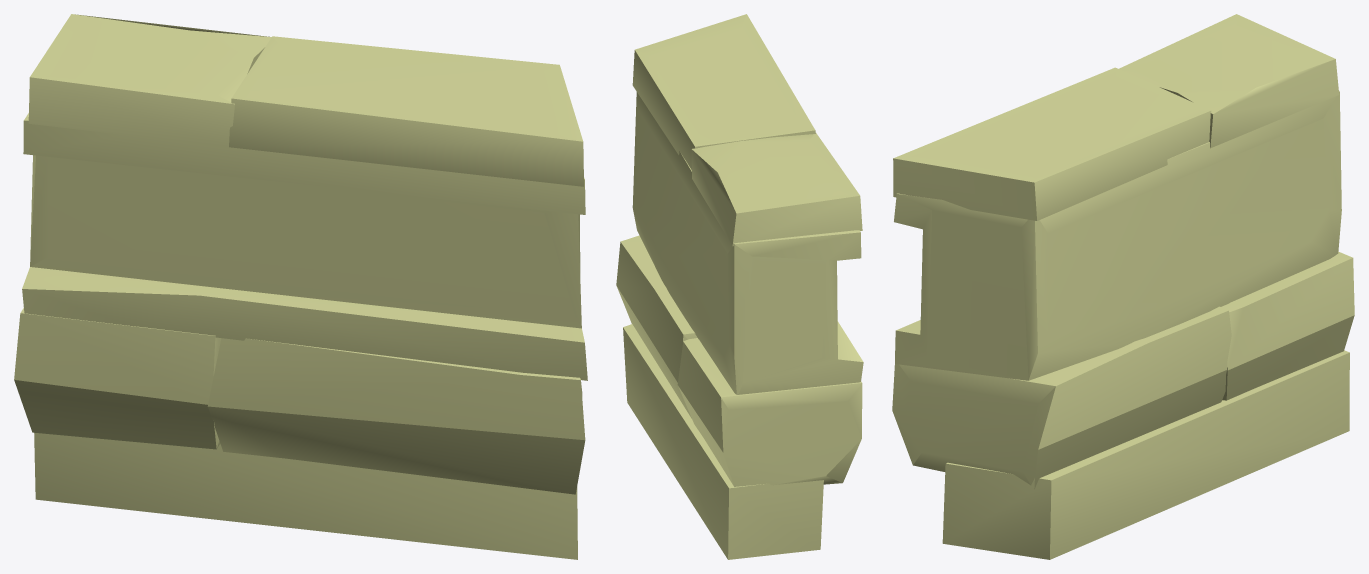
File: Bariere_short_08.fbx
3 views of the same model, side by side, from view 1: azimuth 30°, elevation 25°; view 2: azimuth 150°, elevation 25°; view 3: azimuth 270°, elevation 25° (orthographic). The views are drawn at different scales.
Visible parts, largest first — view 1: Bariere_short_08_LOD1; view 2: Bariere_short_08_LOD1; view 3: Bariere_short_08_LOD1.
Part boxes in pixels (x1,y1,x2,y2): Bariere_short_08_LOD1: [14, 14, 587, 559]; Bariere_short_08_LOD1: [616, 14, 863, 559]; Bariere_short_08_LOD1: [892, 14, 1354, 559].
Bounding box in the file's own units: 154 × 150 × 167.
